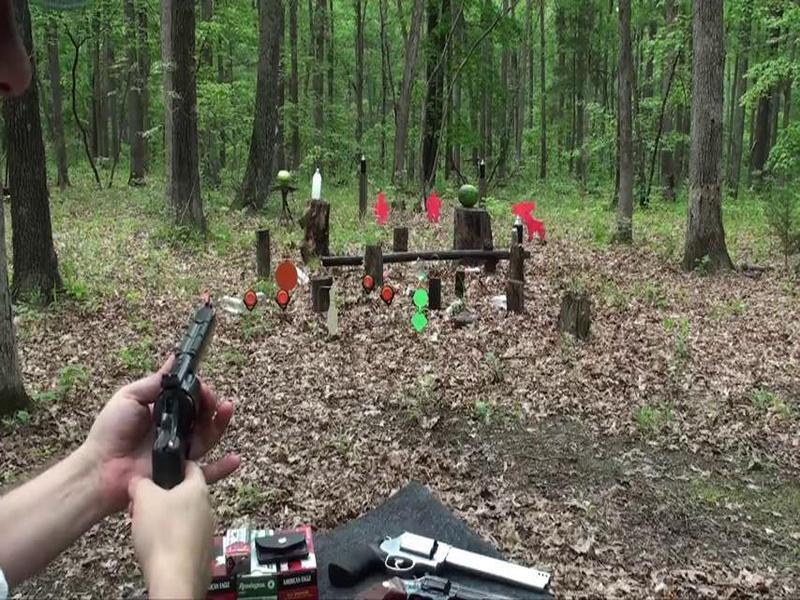Revolver: (145, 284, 234, 502)
